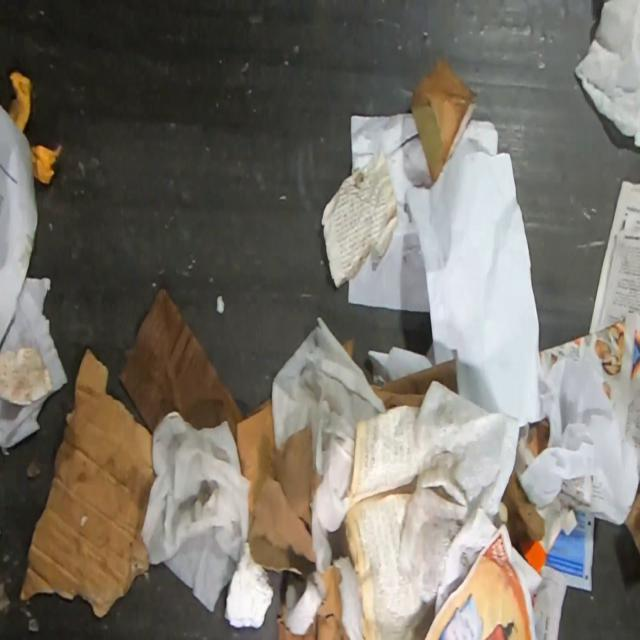cardboard: (19, 345, 156, 618), (234, 396, 369, 640), (119, 287, 247, 444), (408, 54, 479, 185), (369, 359, 460, 412), (0, 346, 54, 406), (341, 335, 356, 360)
soft_plastic: (573, 0, 639, 150)
